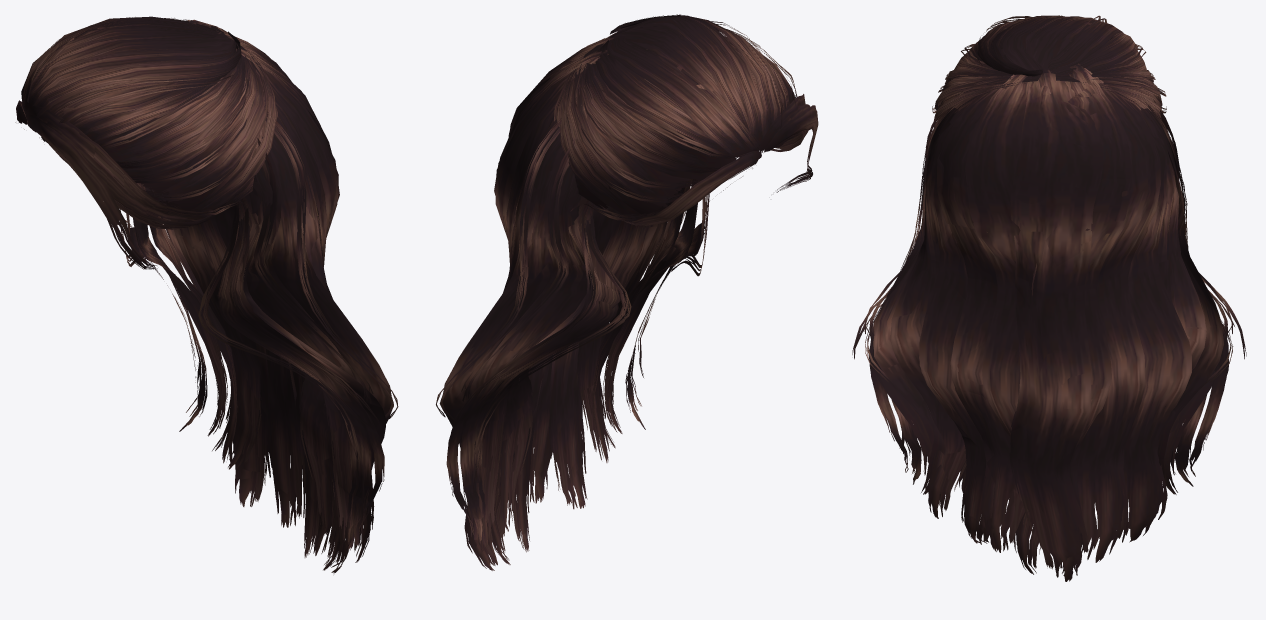
File: hair-02-fixed.fbx
3 renders of one model, left to right at view 1: azimuth 30°, elevation 25°; view 2: azimuth 150°, elevation 25°; view 3: azimuth 270°, elevation 25°, orthographic. The views are drawn at different scales.
Parts seen in each view (by area): view 1: hair2; view 2: hair2; view 3: hair2.
Part boxes in pixels (x1=…): hair2: x1=15, y1=16, x2=398, y2=573; hair2: x1=436, y1=14, x2=818, y2=570; hair2: x1=852, y1=15, x2=1246, y2=581.
Size of the model in its own units: 186 by 356 by 254.
